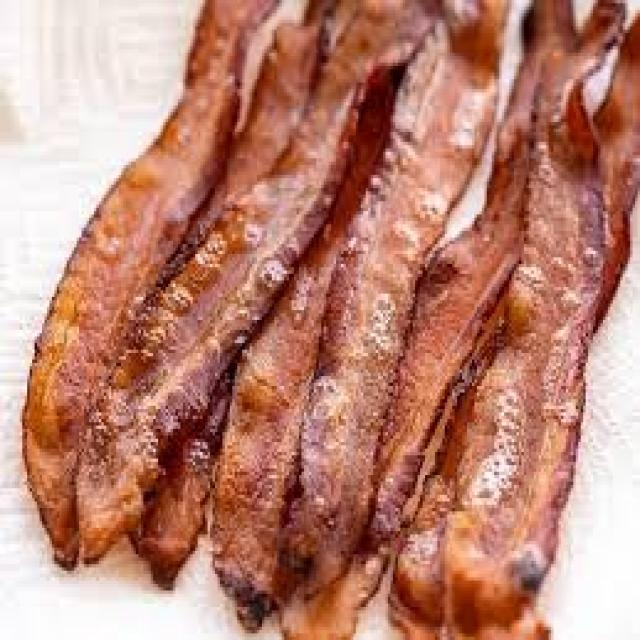Bacon: (76, 5, 421, 560), (390, 10, 640, 637), (283, 53, 539, 637), (277, 52, 494, 598), (213, 127, 380, 630)
